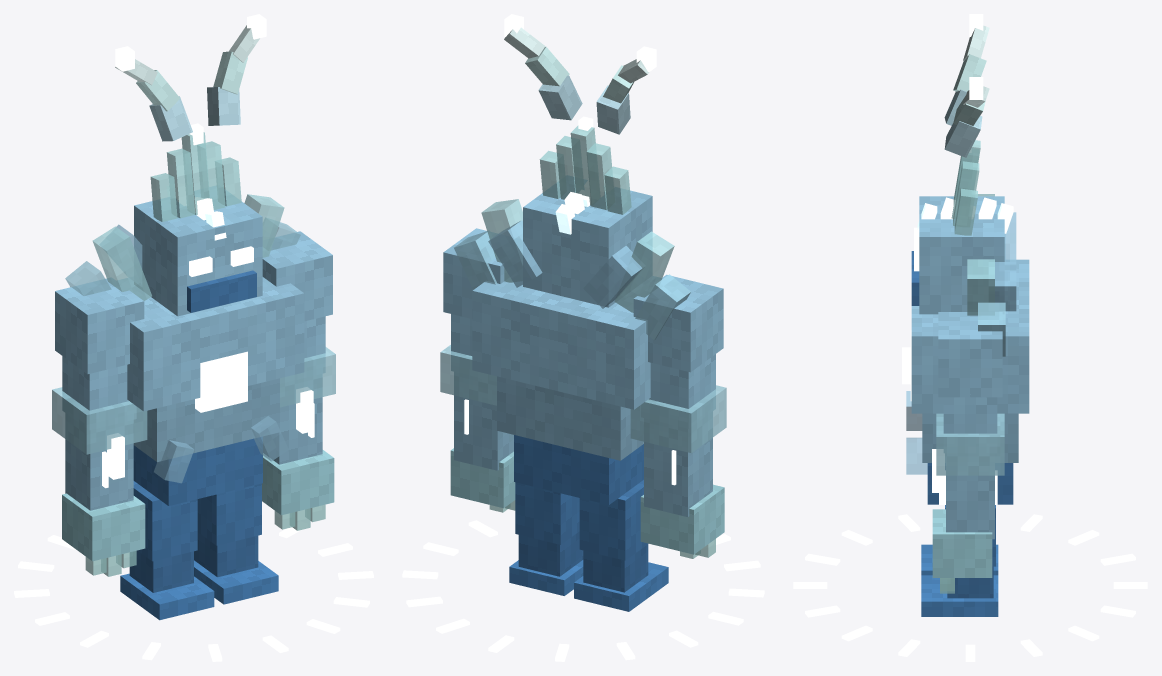
Rendered from ice_elemental_evo2.glb.
3 views of the same model, side by side, from view 1: azimuth 30°, elevation 25°; view 2: azimuth 150°, elevation 25°; view 3: azimuth 270°, elevation 25° (orthographic). The views are drawn at different scales.
Visible parts, largest first — view 1: Torso, Head, ArmR, ArmL, LegR, LegL, HandR, HandL, Root; view 2: Torso, Head, ArmR, ArmL, LegR, LegL, HandR, Root, HandL; view 3: Torso, Head, ArmL, Root, HandL, LegL.
Part boxes in pixels (x1,y1,x2,y2): Torso: (65,183,314,505); Head: (115,14,266,316); ArmR: (52,278,147,510); ArmL: (262,231,335,464); LegR: (120,481,214,620); LegL: (194,483,278,604); HandR: (62,493,145,576); HandL: (262,450,334,530); Root: (14,521,373,661); Torso: (454,176,690,504); Head: (504,14,656,307); ArmR: (630,274,726,516); ArmL: (440,228,513,470); LegR: (574,480,668,611); LegL: (509,482,583,595); HandR: (640,484,724,558); Root: (402,520,764,661); HandL: (450,448,515,512); Torso: (902,194,1029,504); Head: (911,14,1004,314); ArmL: (932,312,1004,539); Root: (793,514,1147,661); HandL: (932,509,992,593); LegL: (921,505,998,616).
Bounding box in the file's own units: 1.66 × 2.79 × 1.66.
Materials: 20 (20 with a texture image).
